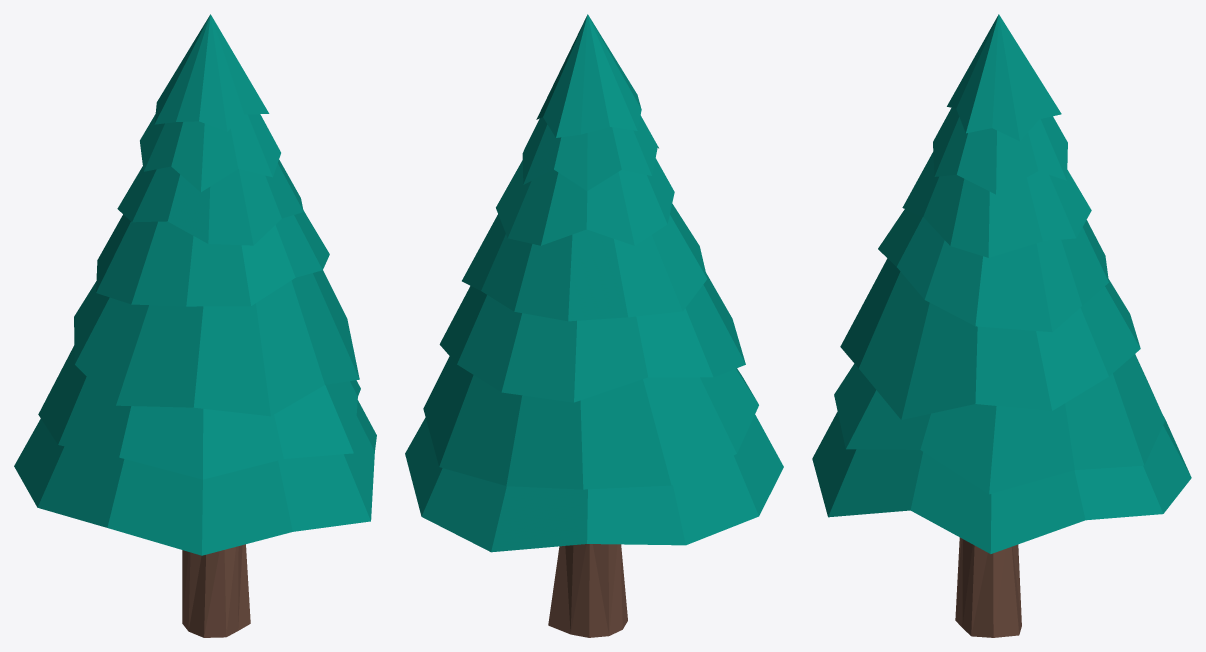
File: pine-teal.glb
3 views of the same model, side by side, from view 1: azimuth 30°, elevation 25°; view 2: azimuth 150°, elevation 25°; view 3: azimuth 270°, elevation 25° (orthographic).
Parts seen in each view (by area): view 1: Node; view 2: Node; view 3: Node.
Part boxes in pixels (x1,y1,x2,y2): Node: (14,14,376,637); Node: (405,14,783,637); Node: (812,14,1191,637).
Bounding box in the file's own units: 1.49 × 2.59 × 1.46.
